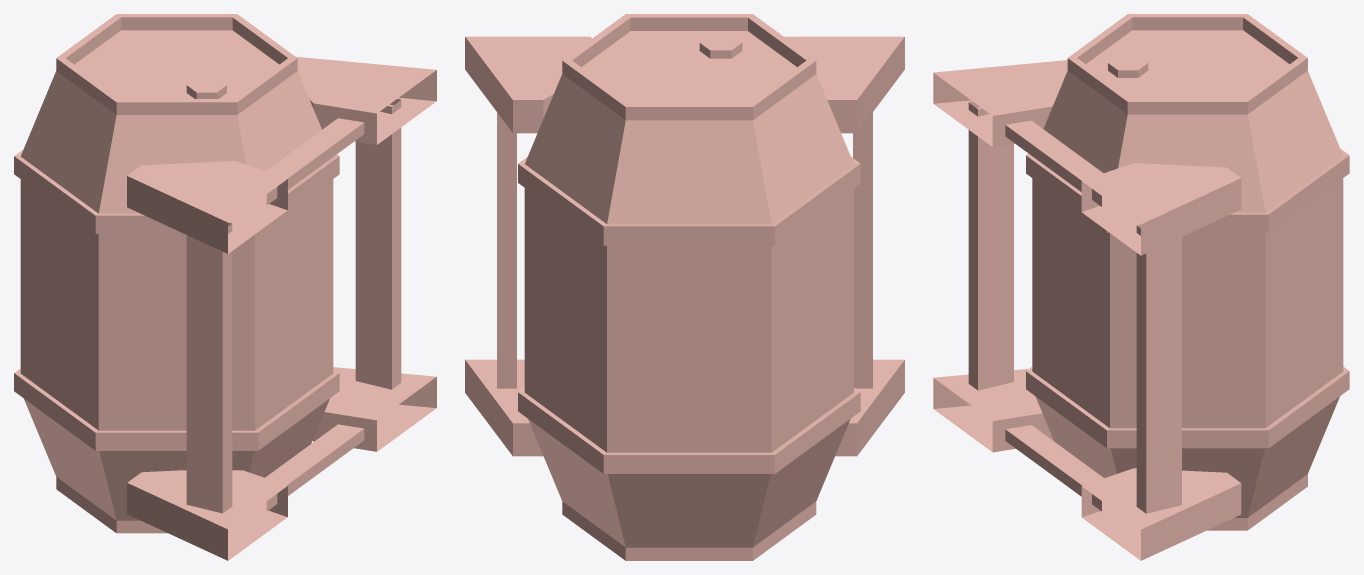
File: Mega_Asset_s_Pack_Cylinder_041.FBX
The picture shows the model from 3 angles, left to right: view 1: azimuth 30°, elevation 25°; view 2: azimuth 150°, elevation 25°; view 3: azimuth 270°, elevation 25°; orthographic projection. The views are drawn at different scales.
Parts seen in each view (by area): view 1: Mega_Asset_s_Pack_Cylinder_041; view 2: Mega_Asset_s_Pack_Cylinder_041; view 3: Mega_Asset_s_Pack_Cylinder_041.
Part boxes in pixels (<box>): Mega_Asset_s_Pack_Cylinder_041: <box>14,14,436,560</box>; Mega_Asset_s_Pack_Cylinder_041: <box>465,14,904,560</box>; Mega_Asset_s_Pack_Cylinder_041: <box>933,14,1349,560</box>.
Size of what is drawn, in the model's own units: 158 by 160 by 182.
